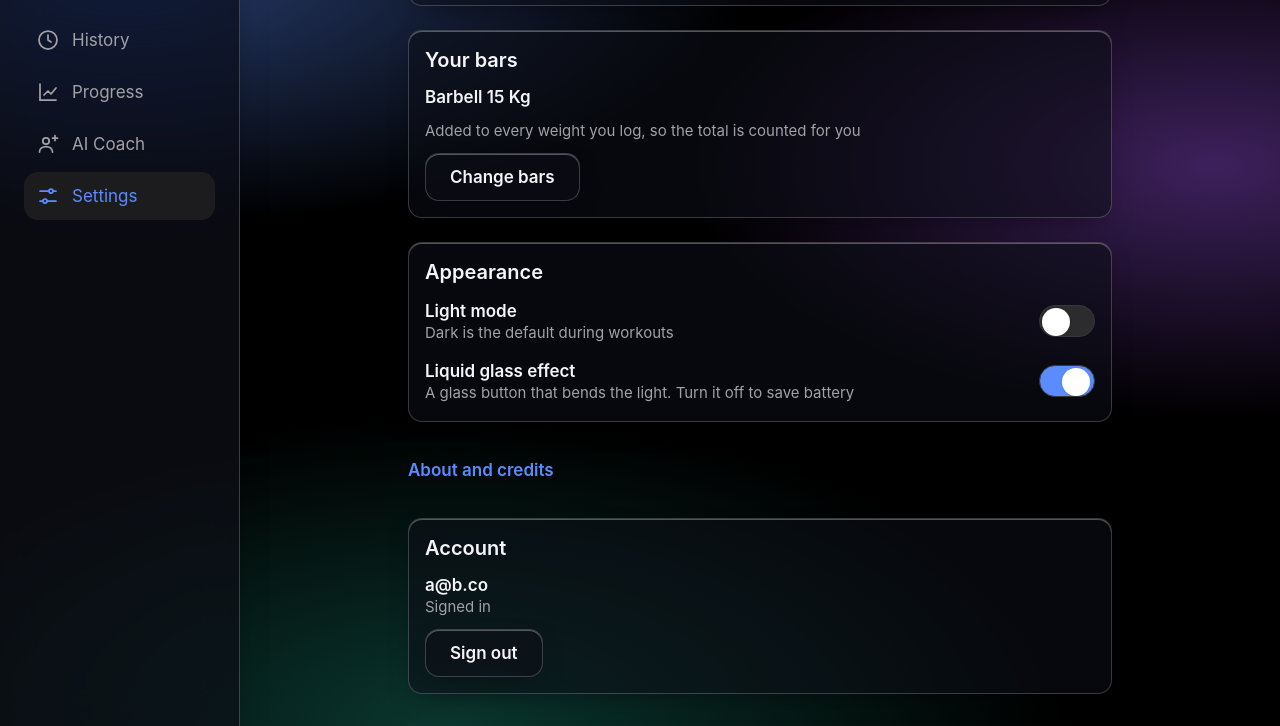
Test case: app routes › tells the user when sign-out fails, and keeps them signed in
This screenshot has width=1280, height=726.
(page scrolled)
Click the button "Sign out" at coordinates (484, 653), box [425,629,543,677]
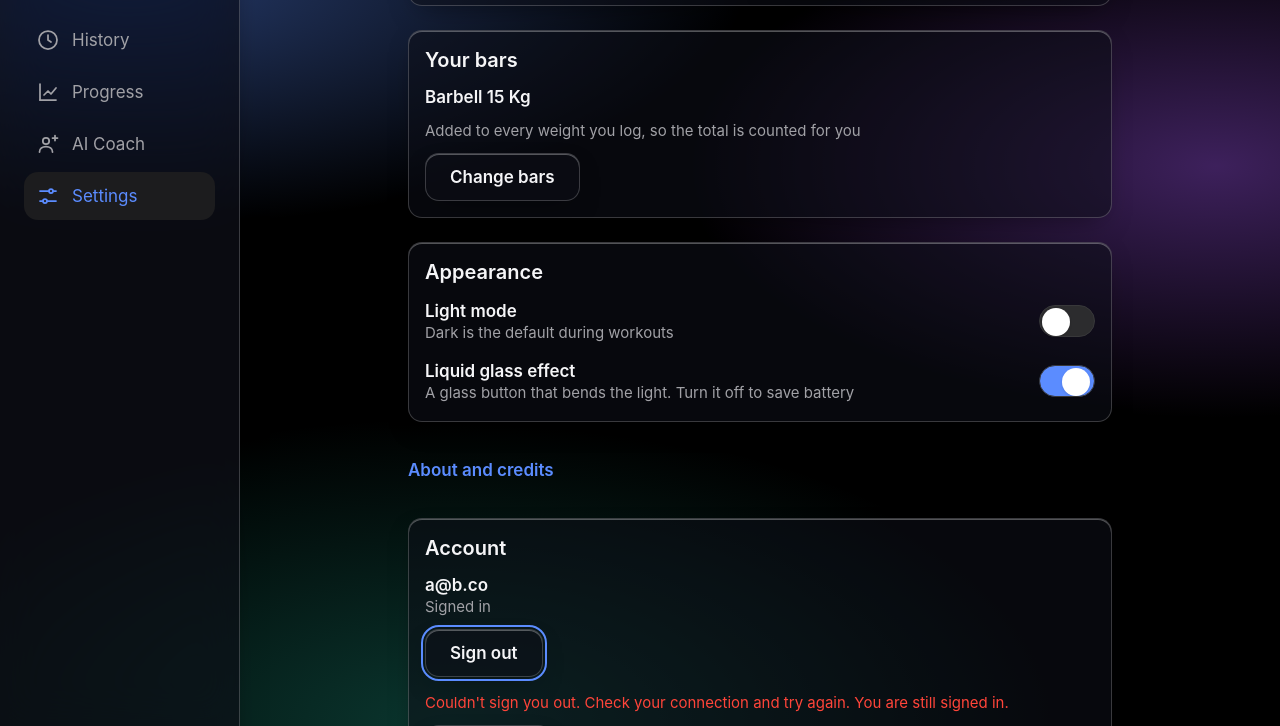
expect the text "a@b.co" is shown: met, box [425,575,488,595]
expect the message shows "Couldn't sign you out": met, box [425,693,1009,712]
